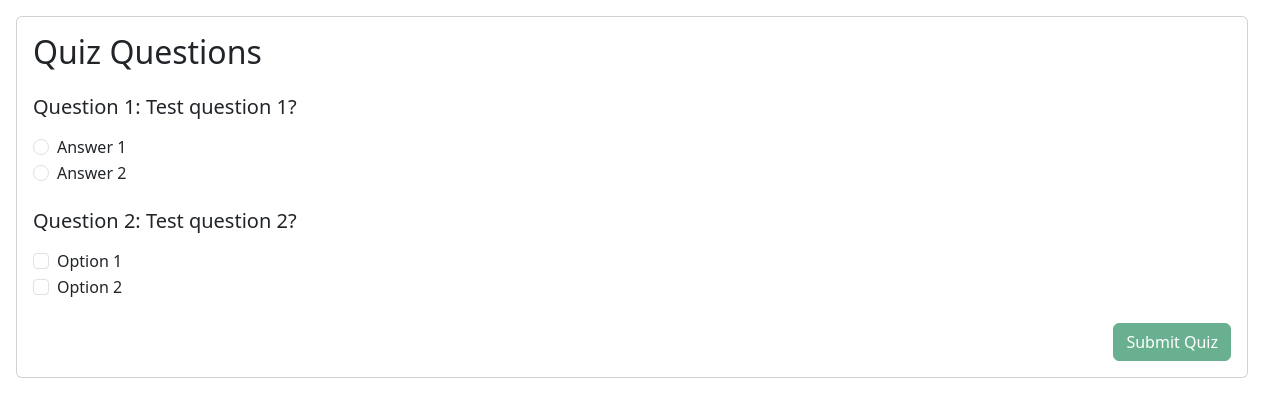
Quiz Component › renders questions and allows selecting answers
Expected: the heading "Question 1: Test question 1?" is shown, [33, 93, 297, 120]
Expected: the heading "Question 2: Test question 2?" is shown, [33, 207, 297, 234]
Click the radio button labelled "Answer 1" at x=41, y=147, box [33, 139, 49, 155]
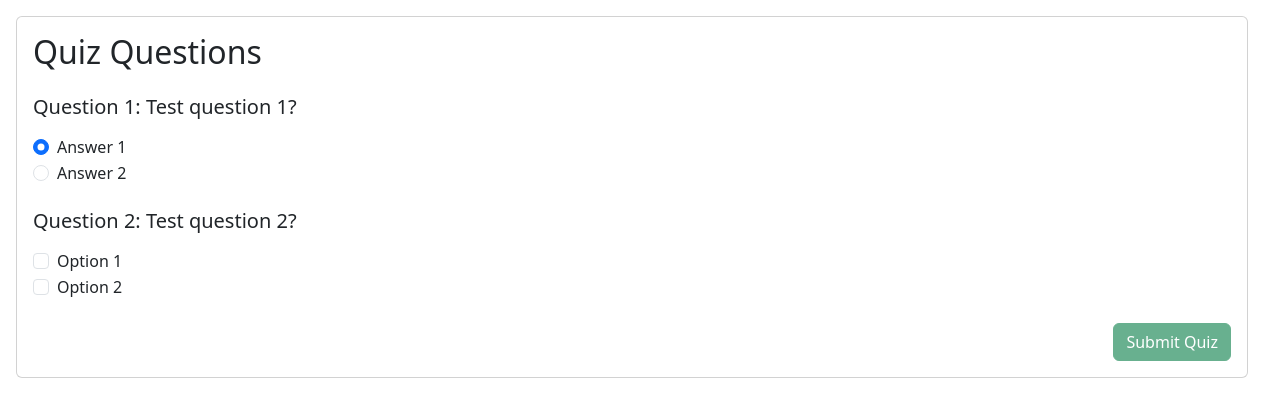
Click the checkbox labelled "Option 1" at x=41, y=261, box [33, 253, 49, 269]
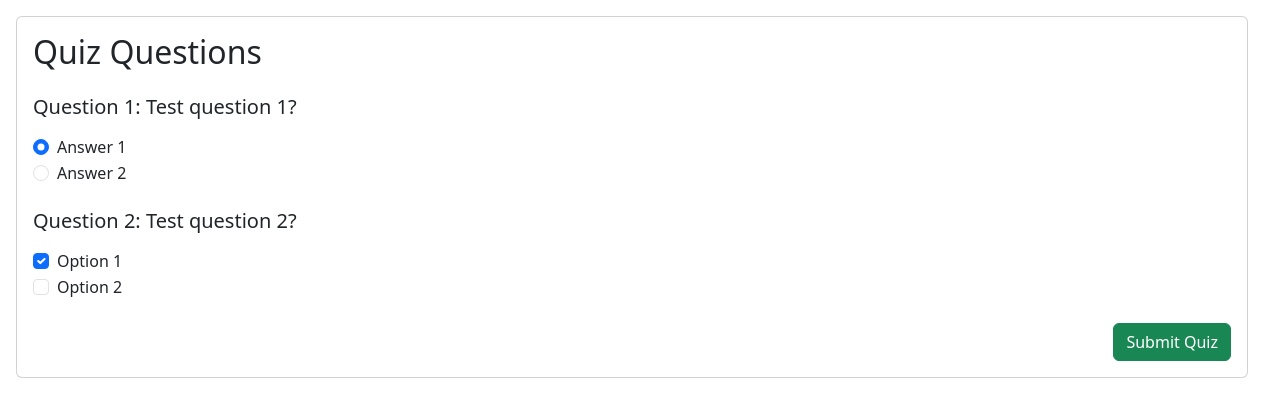
Click the checkbox labelled "Option 2" at x=41, y=287, box [33, 279, 49, 295]
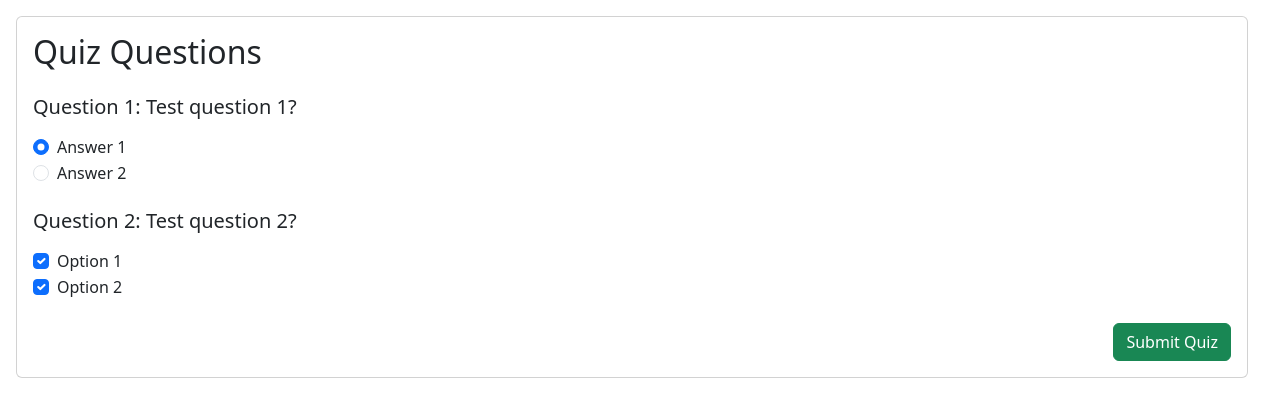
Now the button "Submit Quiz" is enabled
Click the button "Submit Quiz" at x=1172, y=342, box [1113, 323, 1231, 361]
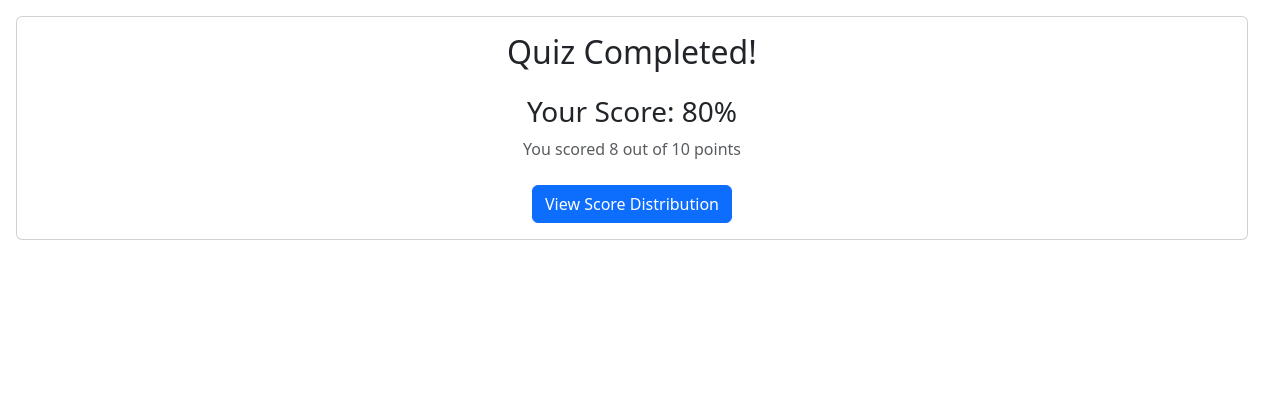
Now the heading "Quiz Completed!" is shown, box [507, 30, 757, 73]
Now the heading "Your Score: 80%" is shown, box [527, 92, 737, 130]
Now the text "You scored 8 out of 10 points" is shown, box [523, 138, 741, 160]
